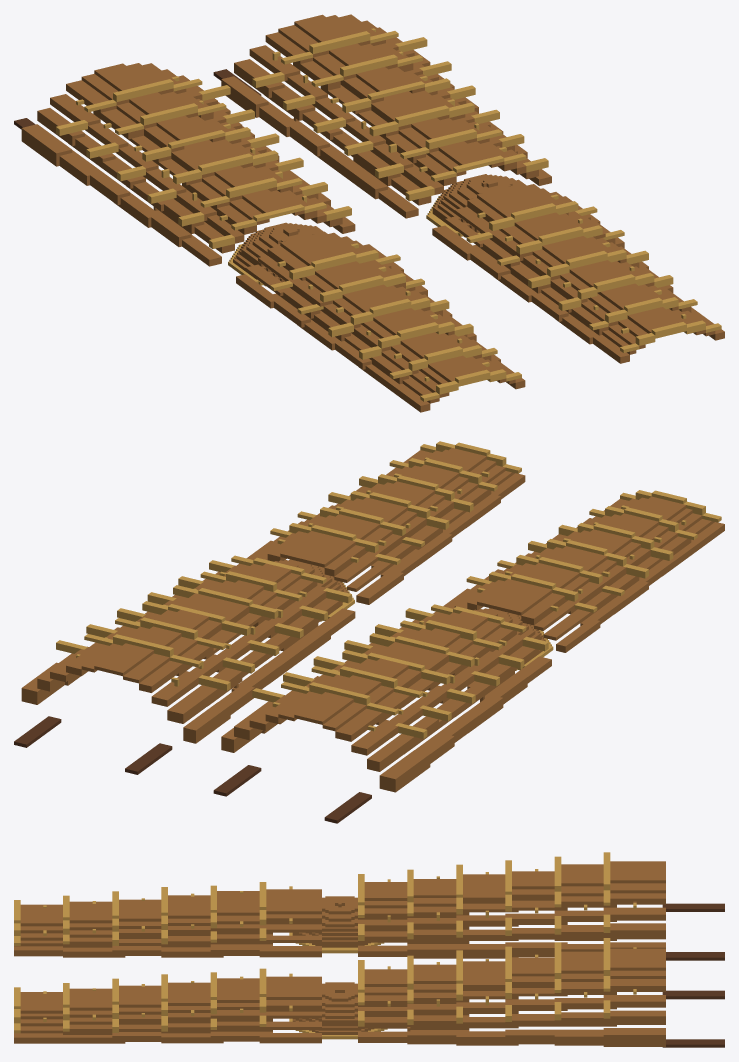
The model's file is leggings_thessalonian.glb.
3 views of the same model, one above another, from view 1: azimuth 30°, elevation 25°; view 2: azimuth 150°, elevation 25°; view 3: azimuth 270°, elevation 25° (orthographic). The views are drawn at different scales.
Visible parts, largest first — view 1: leggings_thessalonian:compound; view 2: leggings_thessalonian:compound; view 3: leggings_thessalonian:compound.
Part boxes in pixels (x1=…): leggings_thessalonian:compound: x1=14, y1=14, x2=724, y2=412; leggings_thessalonian:compound: x1=14, y1=441, x2=724, y2=823; leggings_thessalonian:compound: x1=14, y1=852, x2=724, y2=1047.
Bounding box in the file's own units: 0.472 × 0.084 × 0.868.
